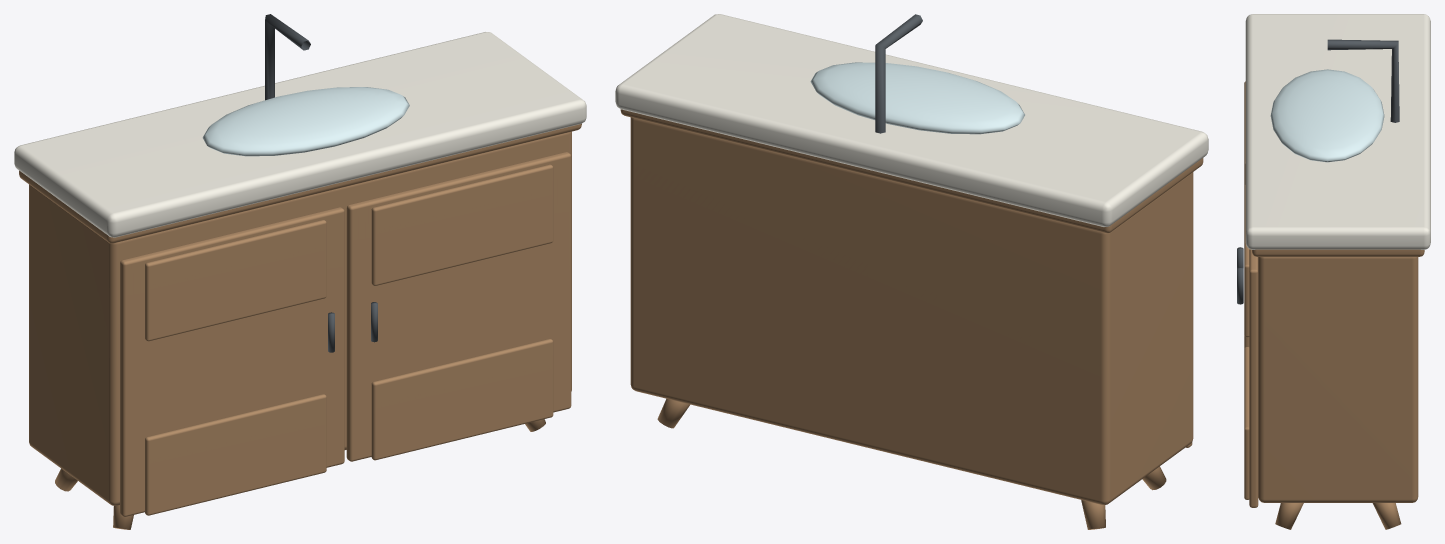
Rendered from atelier-bathroom-vanity.glb.
3 views of the same model, side by side, from view 1: azimuth 30°, elevation 25°; view 2: azimuth 150°, elevation 25°; view 3: azimuth 270°, elevation 25° (orthographic). The views are drawn at different scales.
Parts seen in each view (by area): view 1: legs.102, ceramic.016, glass.003, metal.042; view 2: legs.102, ceramic.016, glass.003, metal.042; view 3: legs.102, ceramic.016, glass.003, metal.042.
Boxes of the visible parts, <box> form: legs.102: <box>19,123,581,529</box>; ceramic.016: <box>14,32,586,237</box>; glass.003: <box>202,87,409,156</box>; metal.042: <box>265,14,377,352</box>; legs.102: <box>620,109,1203,529</box>; ceramic.016: <box>615,14,1208,226</box>; glass.003: <box>810,62,1024,134</box>; metal.042: <box>875,14,922,133</box>; legs.102: <box>1244,81,1424,529</box>; ceramic.016: <box>1245,14,1430,249</box>; glass.003: <box>1270,69,1384,162</box>; metal.042: <box>1237,39,1399,304</box>.
Size of the model in its own units: 1.45 by 1.22 by 0.544.
